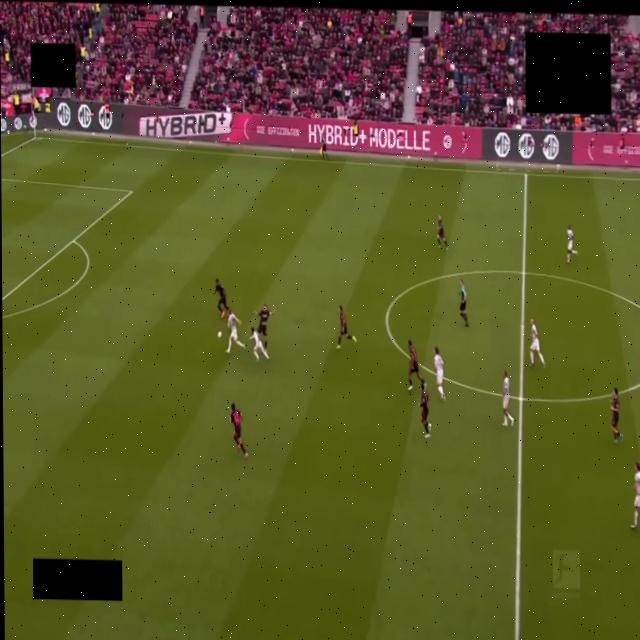ball: (218, 332, 221, 338)
player: (230, 403, 247, 458), (226, 310, 245, 354), (408, 340, 424, 390), (336, 306, 355, 348), (256, 305, 274, 348), (530, 319, 545, 367), (611, 389, 623, 444), (250, 328, 269, 360), (420, 382, 431, 437), (434, 347, 445, 401), (503, 371, 513, 426), (214, 279, 228, 318), (631, 463, 639, 529), (567, 226, 577, 264), (438, 215, 448, 249)
referee: (459, 281, 468, 326)
